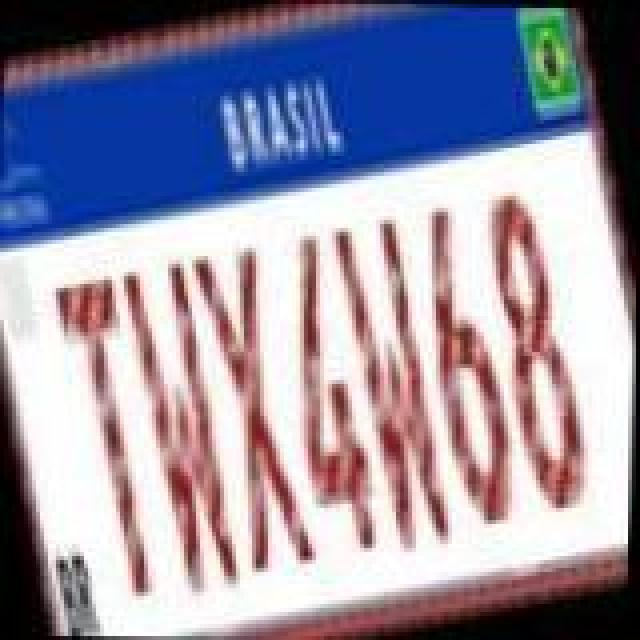4: (254, 224, 398, 564)
6: (396, 194, 540, 534)
8: (468, 182, 612, 522)
T: (42, 266, 182, 606)
W: (110, 252, 262, 604), (322, 214, 466, 562)
X: (184, 240, 332, 580)
